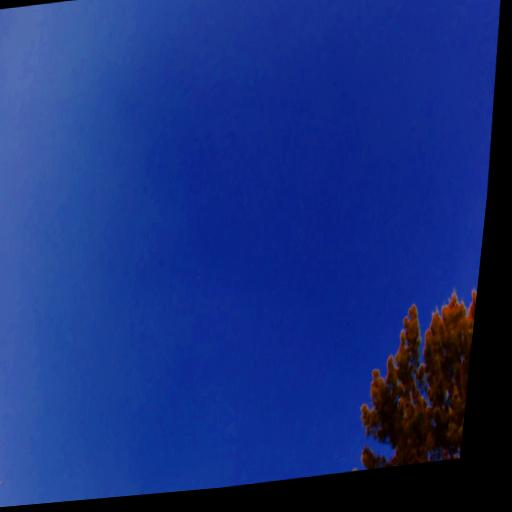drones: (0, 470, 4, 491)
